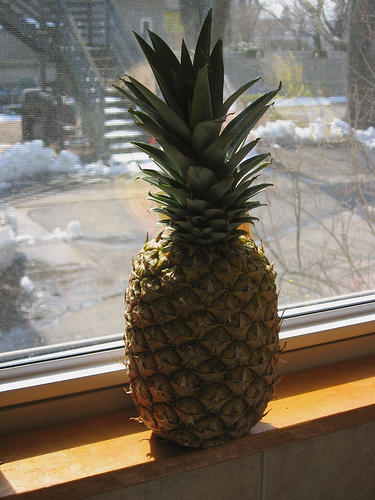pineapple: (111, 10, 281, 450)
